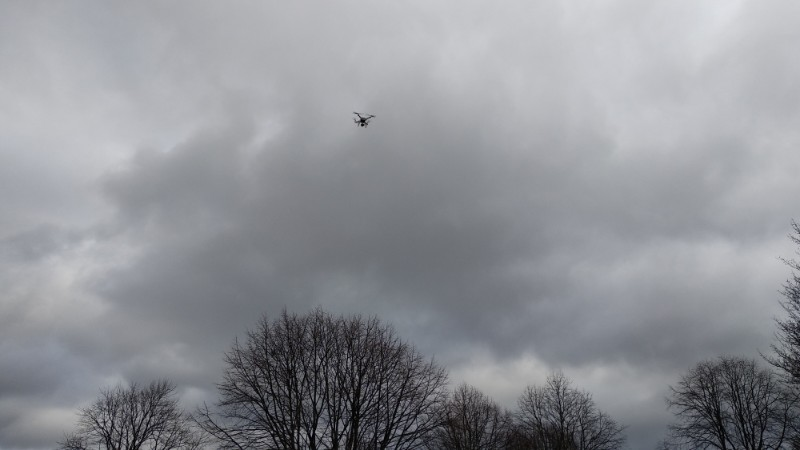drone: (350, 110, 376, 129)
